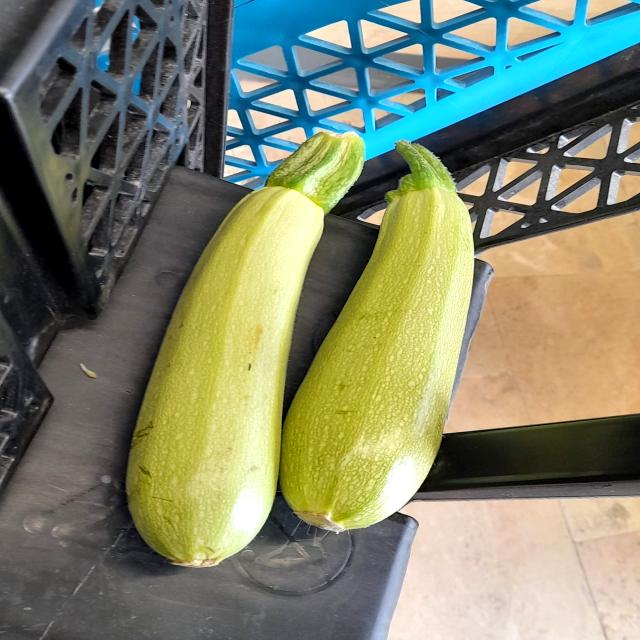zucchini: (118, 124, 384, 572), (270, 124, 478, 529)
